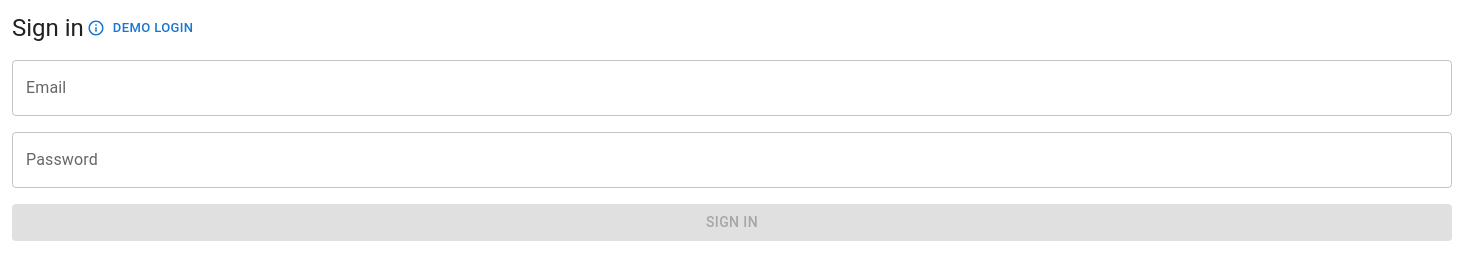
Test: LoginForm › disables submit until the form is valid
The image size is (1464, 280).
Expected: the button "Sign in" is disabled, [12,204,1452,240]
In the field labelled "Email": (732, 88) [12,60,1452,116], type "not-an-email"
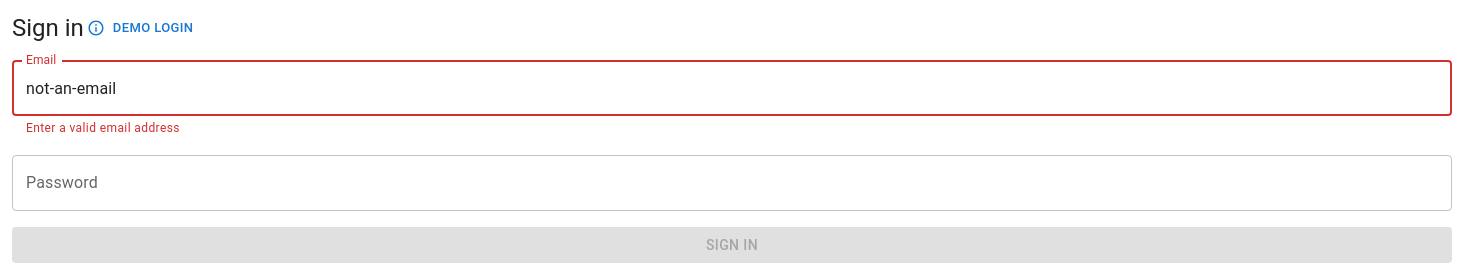
Expected: the button "Sign in" is disabled, [12,227,1452,263]
Replace the text in the field labelled "Email" with "user@example.com": (732, 88) [12,60,1452,116]
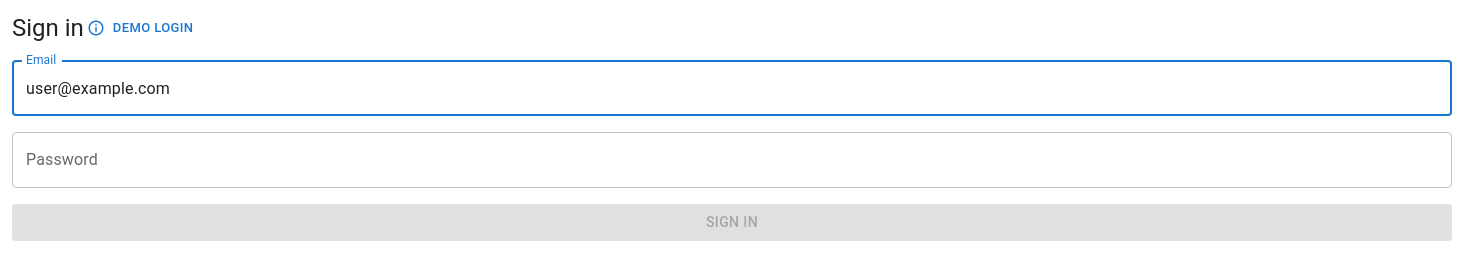
In the password field labelled "Password": (732, 160) [12,132,1452,188], type "secret"
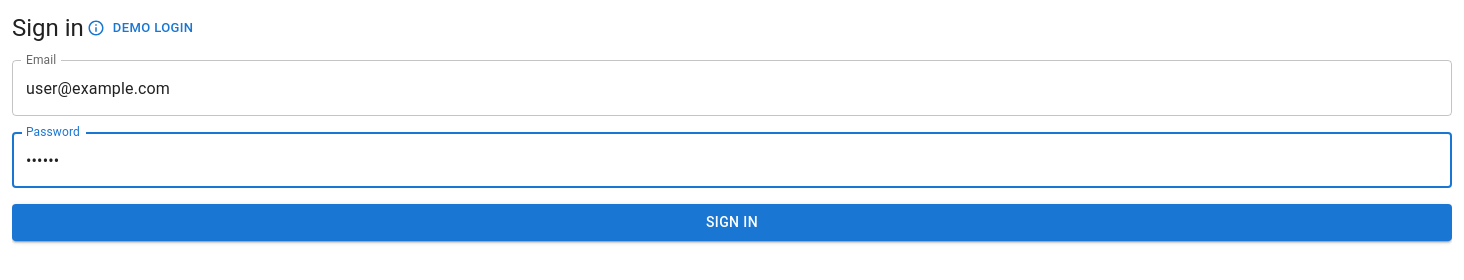
Expected: the button "Sign in" is enabled, [12,204,1452,240]
